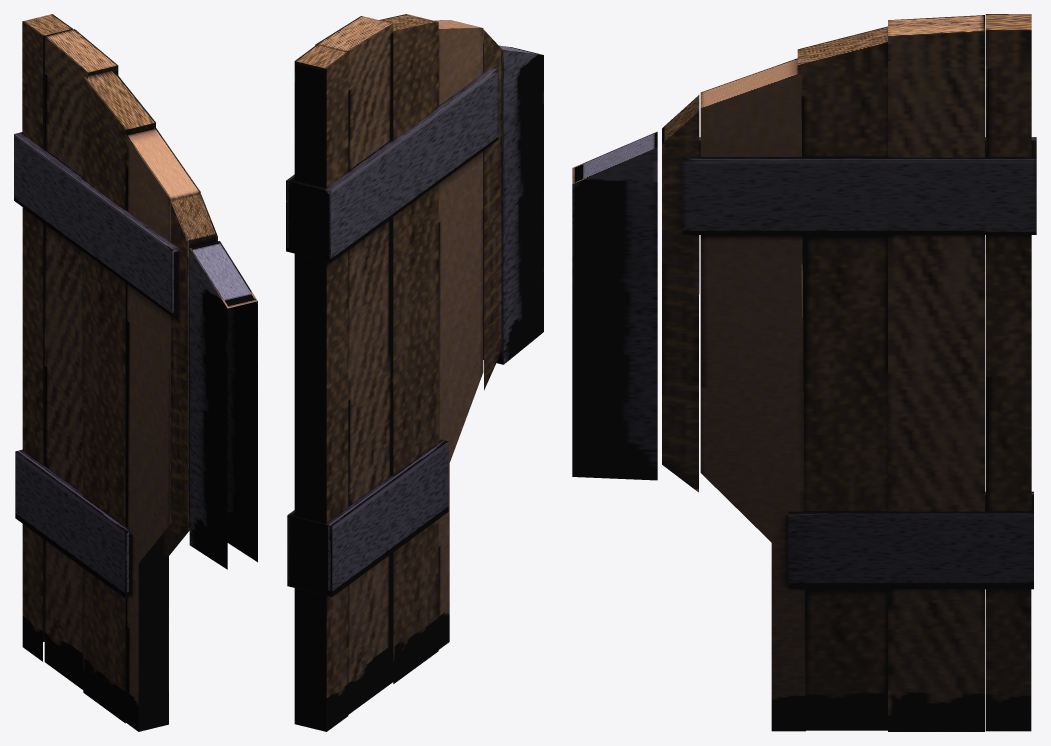
Rendered from DoorSide2_0.obj.
3 views of the same model, side by side, from view 1: azimuth 30°, elevation 25°; view 2: azimuth 150°, elevation 25°; view 3: azimuth 270°, elevation 25° (orthographic). The views are drawn at different scales.
Visible parts, largest first — view 1: Cube.001_Cube.422; view 2: Cube.001_Cube.422; view 3: Cube.001_Cube.422.
Boxes of the visible parts, <box> form: Cube.001_Cube.422: <box>14,14,257,731</box>; Cube.001_Cube.422: <box>286,14,543,731</box>; Cube.001_Cube.422: <box>572,14,1036,731</box>.
Size of the model in its own units: 12.66 by 179 by 107.
1 material, 1 textured.
